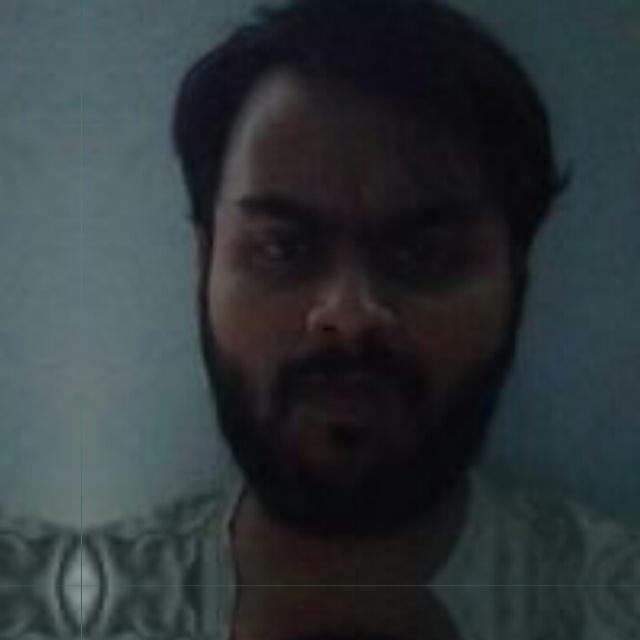Angry: (122, 47, 524, 514)
